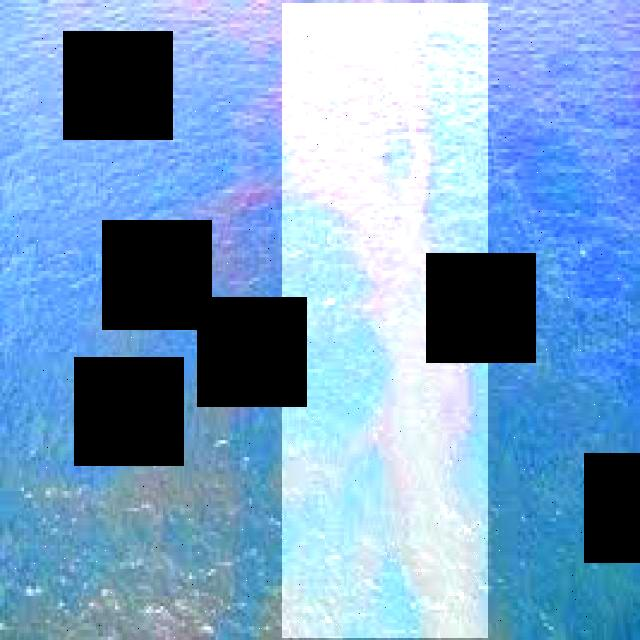oil spill: (283, 4, 488, 638)
